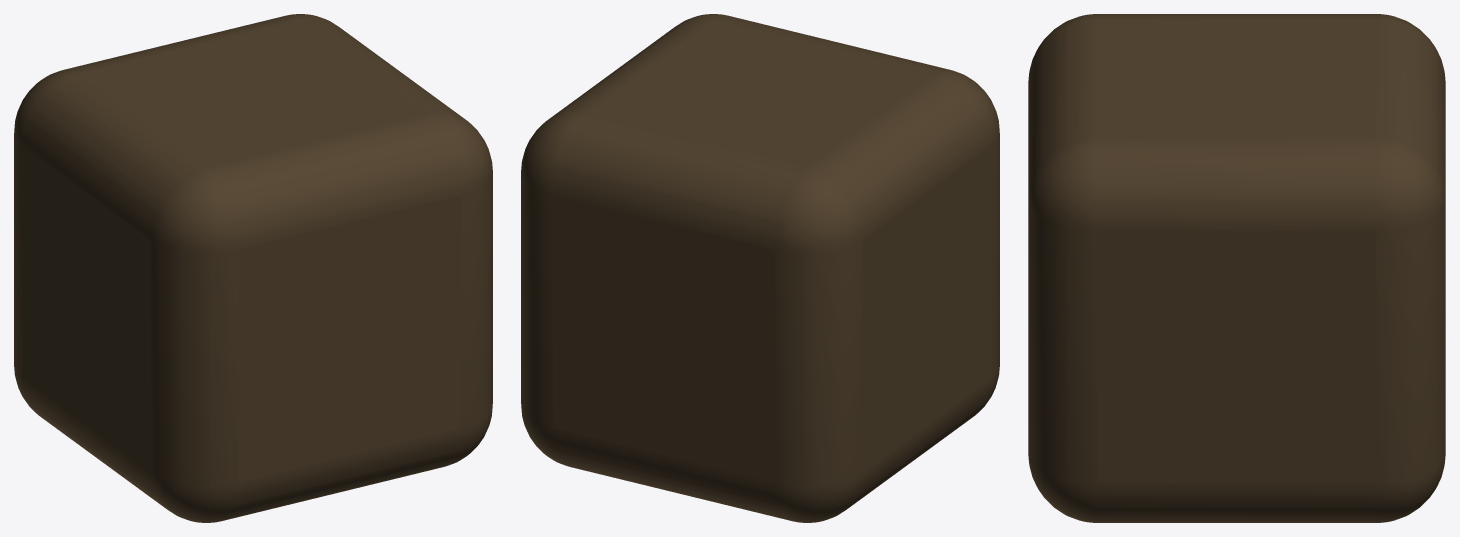
3 renders of one model, left to right at view 1: azimuth 30°, elevation 25°; view 2: azimuth 150°, elevation 25°; view 3: azimuth 270°, elevation 25°, orthographic. The views are drawn at different scales.
Visible parts, largest first — view 1: Actor0; view 2: Actor0; view 3: Actor0.
Part boxes in pixels (<box>): Actor0: <box>14,14,492,522</box>; Actor0: <box>521,14,999,522</box>; Actor0: <box>1028,14,1445,522</box>.
Size of the model in its own units: 0.6 by 0.6 by 0.6.
